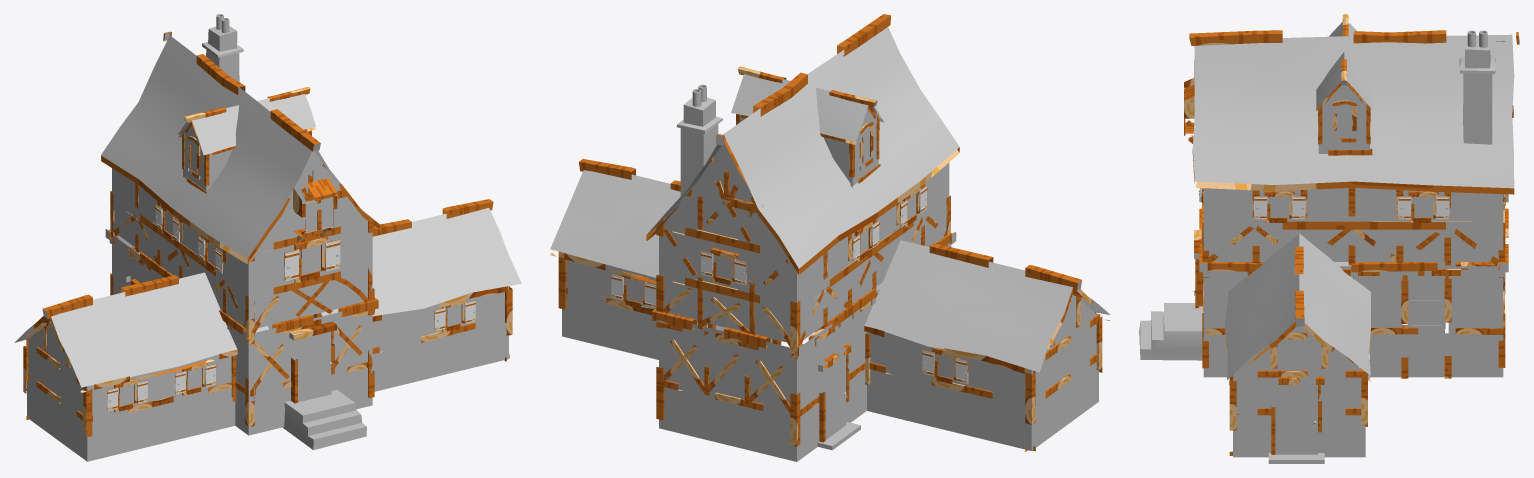
File: medieval-house-2.fbx
The picture shows the model from 3 angles, left to right: view 1: azimuth 30°, elevation 25°; view 2: azimuth 150°, elevation 25°; view 3: azimuth 270°, elevation 25°; orthographic projection. The views are drawn at different scales.
Visible parts, largest first — view 1: DoorFrontFrame; view 2: DoorFrontFrame; view 3: DoorFrontFrame.
Boxes of the visible parts, bbox=[...] form: DoorFrontFrame: bbox=[14, 14, 521, 461]; DoorFrontFrame: bbox=[550, 14, 1109, 461]; DoorFrontFrame: bbox=[1139, 14, 1519, 463].
Size of the model in its own units: 1509 by 979 by 1013.
